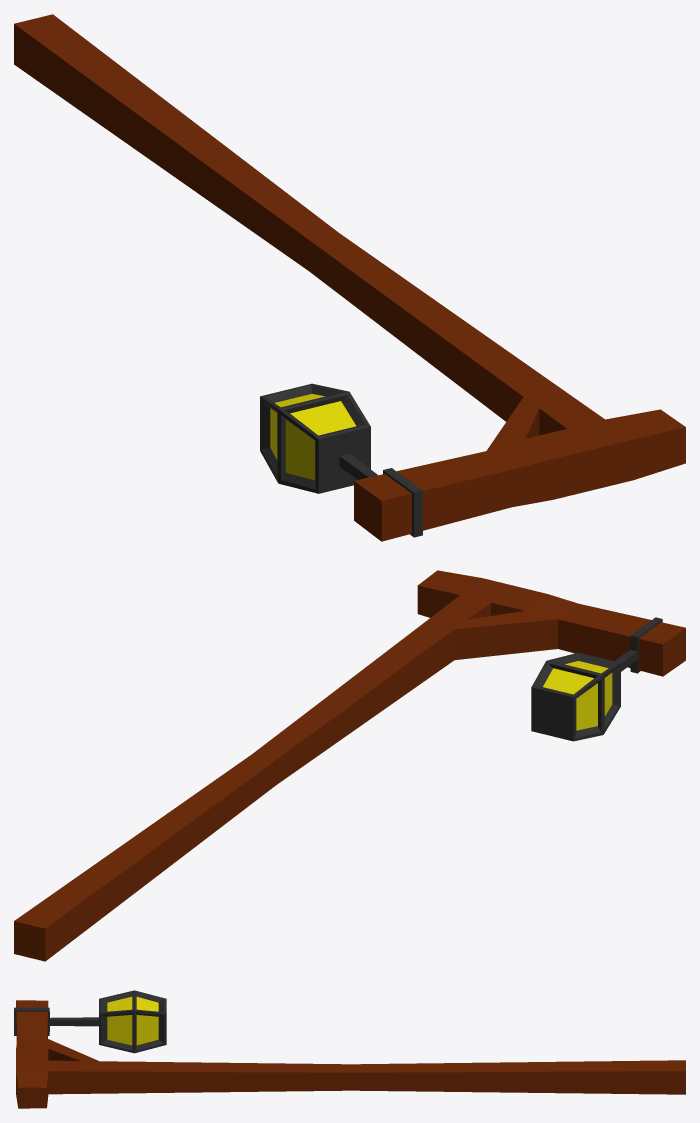
Rendered from Lamp.fbx.
3 views of the same model, one above another, from view 1: azimuth 30°, elevation 25°; view 2: azimuth 150°, elevation 25°; view 3: azimuth 270°, elevation 25° (orthographic). The views are drawn at different scales.
Visible parts, largest first — view 1: Street_Lamp; view 2: Street_Lamp; view 3: Street_Lamp.
Part boxes in pixels (box(x1,y1,x2,y2)): Street_Lamp: box(14, 14, 685, 541); Street_Lamp: box(14, 570, 685, 961); Street_Lamp: box(14, 990, 685, 1108).
Bounding box in the file's own units: 1.14 × 0.2655 × 3.76.
